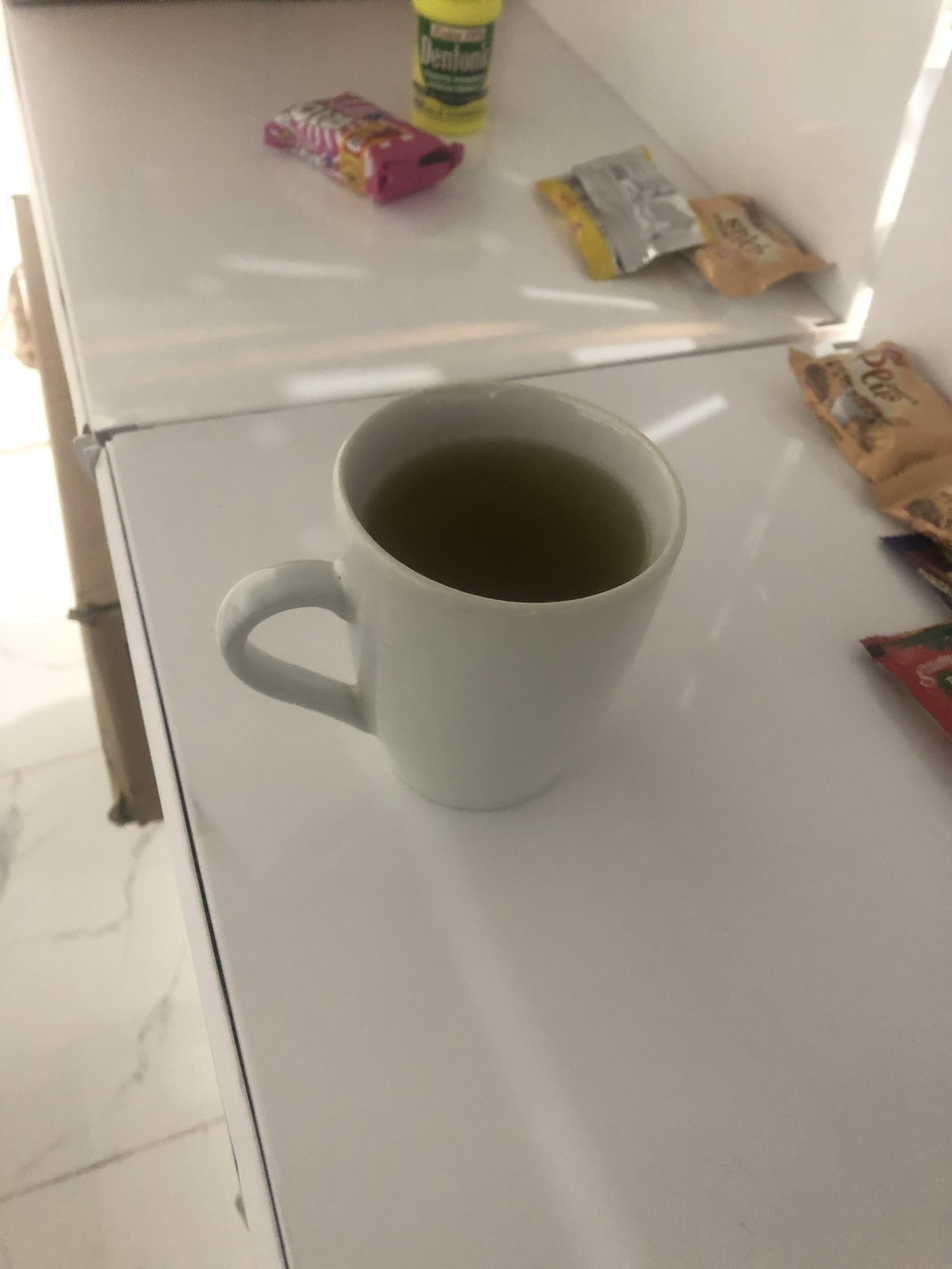cup-handle: (209, 378, 696, 814)
